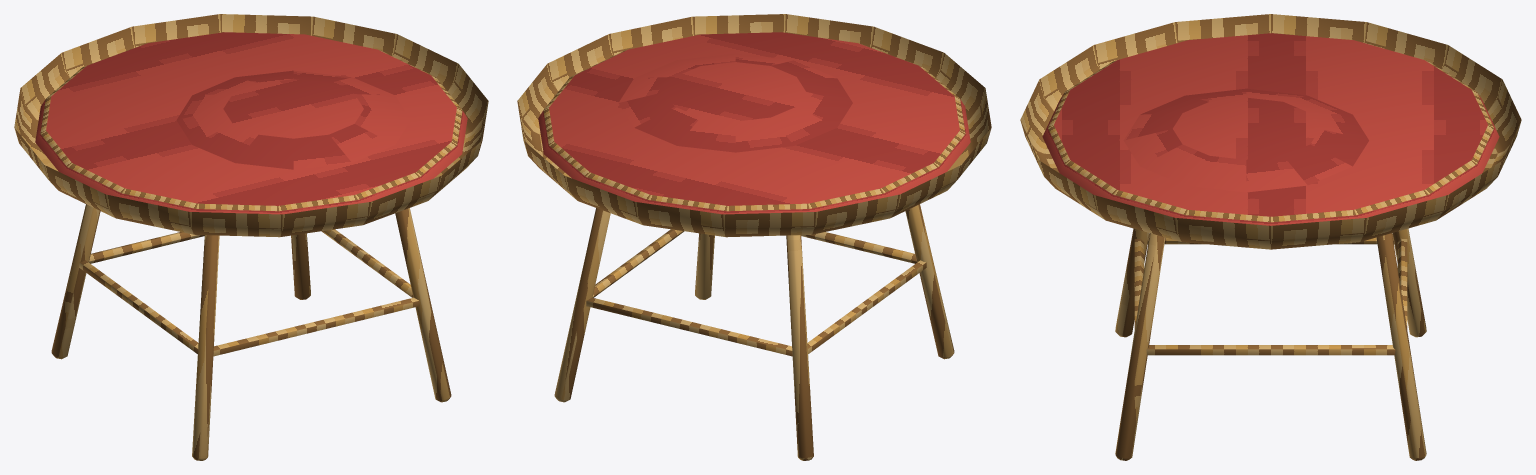
Rendered from cn_drying_tray_0.glb.
3 renders of one model, left to right at view 1: azimuth 30°, elevation 25°; view 2: azimuth 150°, elevation 25°; view 3: azimuth 270°, elevation 25°, orthographic. The views are drawn at different scales.
Visible parts, largest first — view 1: cn_drying_tray_1; view 2: cn_drying_tray_1; view 3: cn_drying_tray_1.
Part boxes in pixels (box(x1,y1,x2,y2)): cn_drying_tray_1: box(14, 14, 488, 460); cn_drying_tray_1: box(517, 14, 991, 460); cn_drying_tray_1: box(1020, 14, 1521, 460).
Bounding box in the file's own units: 1.35 × 0.8431 × 1.35.
2 materials, 2 textured.
